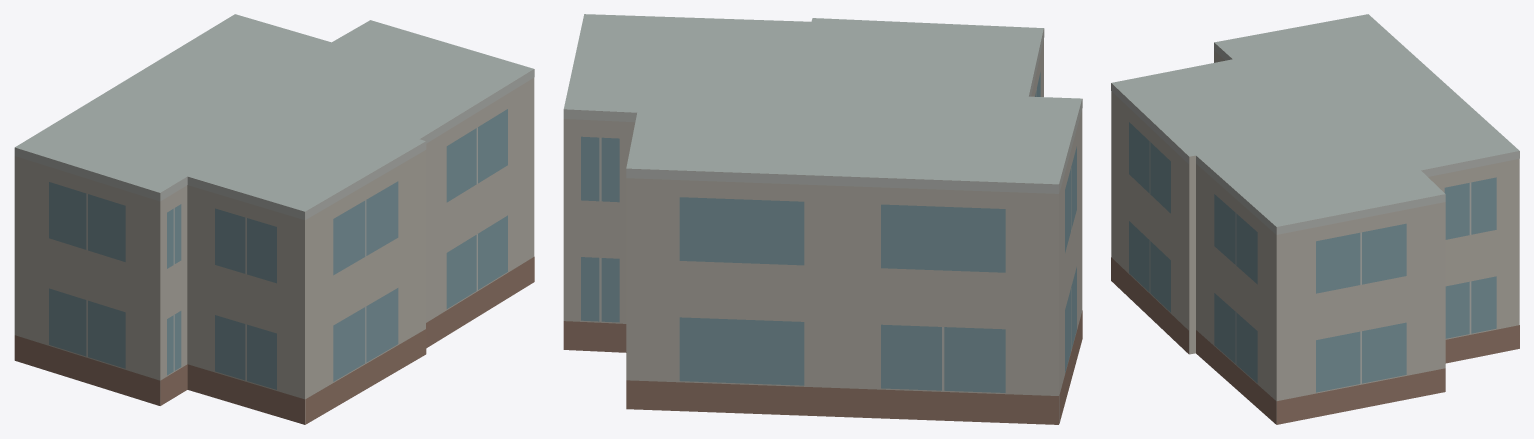
The model's file is survey-upis-32653158.glb.
The picture shows the model from 3 angles, left to right: view 1: azimuth 30°, elevation 25°; view 2: azimuth 150°, elevation 25°; view 3: azimuth 270°, elevation 25°; orthographic projection. The views are drawn at different scales.
Parts seen in each view (by area): view 1: survey-upis-32653158.tmp; view 2: survey-upis-32653158.tmp; view 3: survey-upis-32653158.tmp.
Boxes of the visible parts, box(x1,y1,x2,y2) form: survey-upis-32653158.tmp: box(14, 14, 534, 424); survey-upis-32653158.tmp: box(563, 14, 1082, 424); survey-upis-32653158.tmp: box(1111, 14, 1519, 424).
Size of the model in its own units: 14.1 by 6.1 by 11.43.
